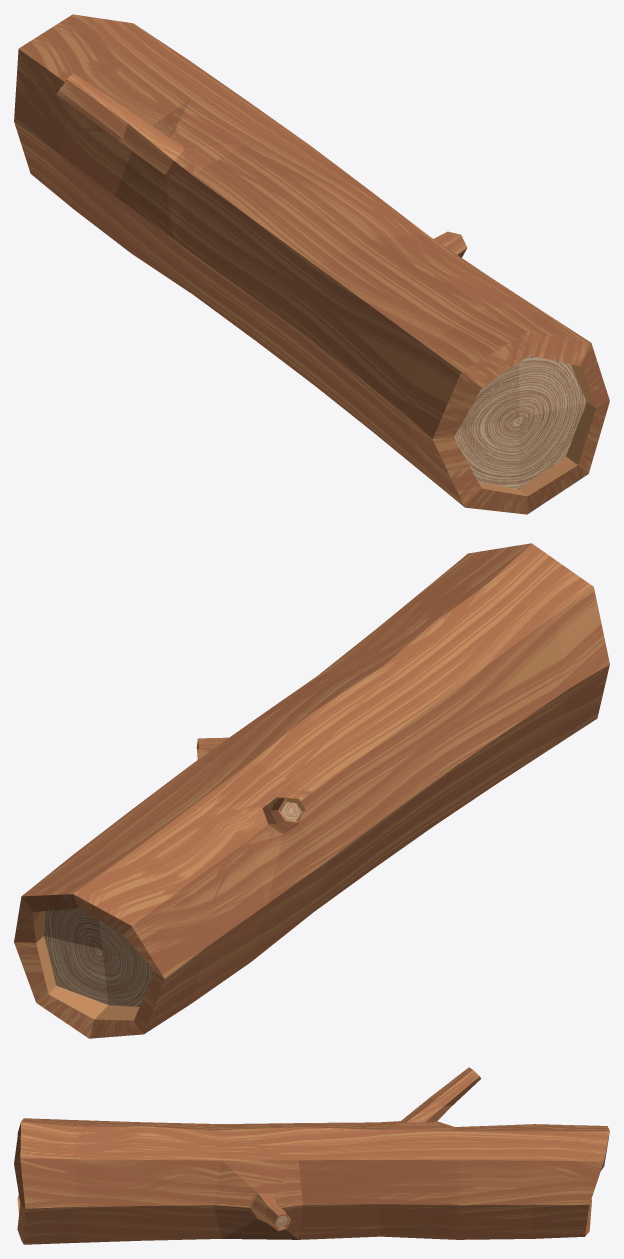
File: log.fbx
The picture shows the model from 3 angles, top to bottom: view 1: azimuth 30°, elevation 25°; view 2: azimuth 150°, elevation 25°; view 3: azimuth 270°, elevation 25°; orthographic projection. The views are drawn at different scales.
Visible parts, largest first — view 1: Cylinder; view 2: Cylinder; view 3: Cylinder.
Part boxes in pixels (box(x1,y1,x2,y2)): Cylinder: box(14, 14, 609, 514); Cylinder: box(14, 543, 609, 1038); Cylinder: box(14, 1067, 609, 1244).
Size of the model in its own units: 276 by 216 by 853.
